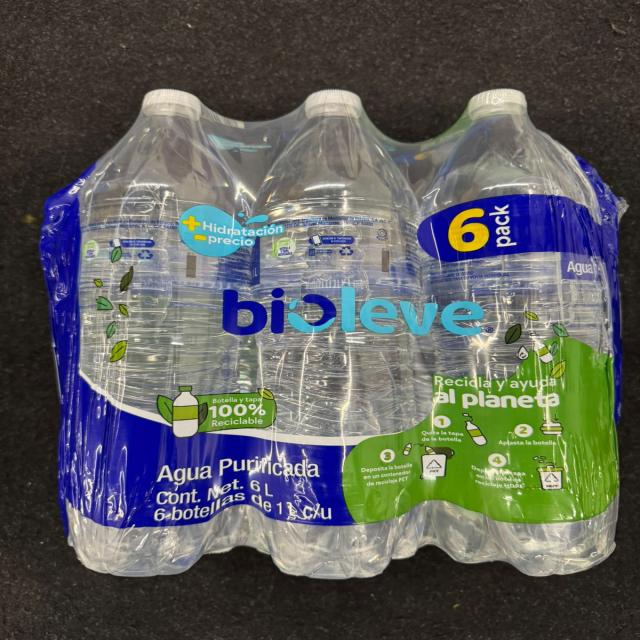Agua Bioleve 1L 6pack: (47, 88, 627, 580)
